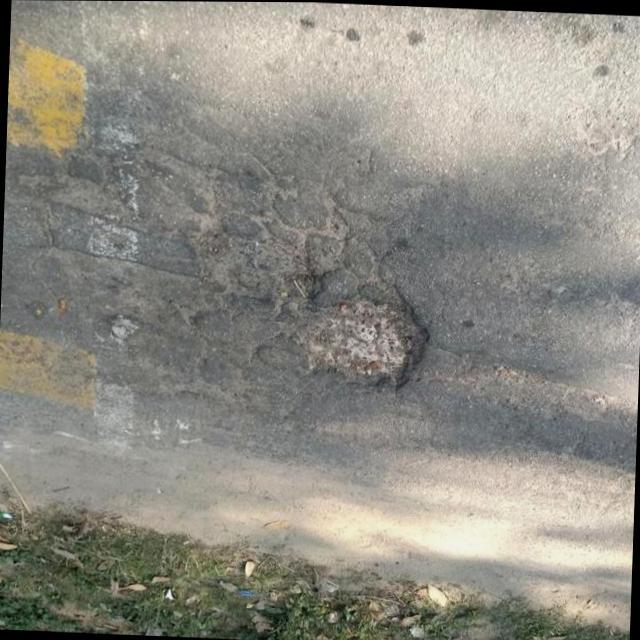Potholes: (299, 267, 430, 407)
